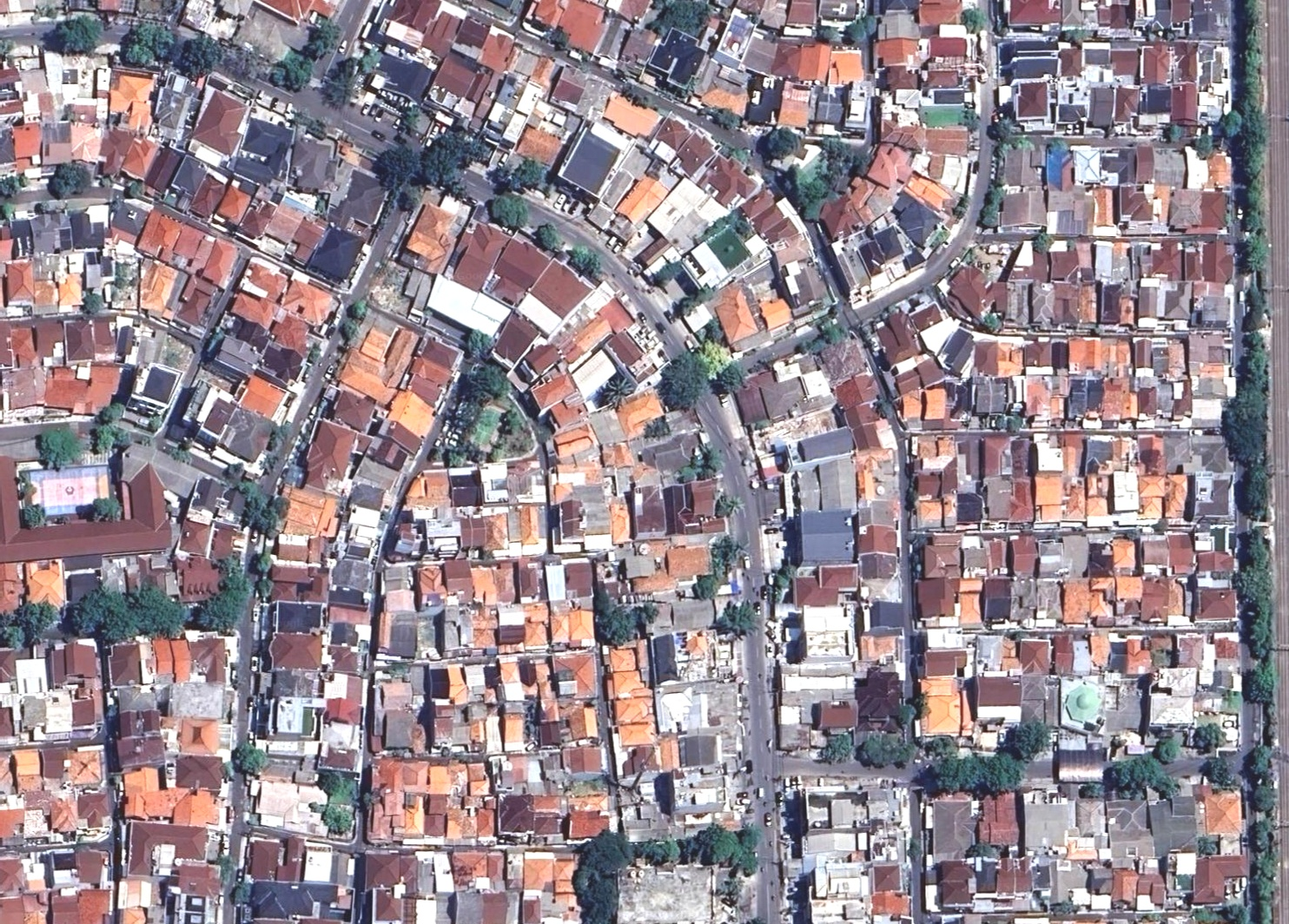building: (0, 456, 172, 564), (366, 756, 498, 848), (0, 742, 113, 848), (366, 756, 497, 845), (367, 757, 495, 842), (367, 757, 494, 842), (367, 757, 493, 842), (826, 209, 931, 305), (332, 309, 423, 410), (811, 160, 905, 251), (111, 429, 208, 517), (773, 657, 859, 752), (643, 173, 729, 259), (119, 766, 223, 830), (616, 859, 718, 924), (421, 273, 512, 343), (118, 322, 199, 400), (183, 86, 255, 173), (478, 62, 549, 150), (552, 124, 625, 204), (737, 180, 810, 258), (394, 333, 465, 413), (479, 232, 552, 309), (231, 1, 310, 72), (396, 198, 466, 278), (227, 114, 299, 191), (643, 109, 719, 181), (635, 413, 708, 486), (326, 166, 396, 242), (8, 205, 108, 258), (653, 764, 733, 829), (640, 24, 710, 98), (444, 216, 510, 294), (771, 37, 867, 90), (848, 424, 905, 512), (318, 671, 366, 774), (250, 777, 331, 838), (425, 48, 495, 118), (211, 403, 279, 475), (364, 46, 436, 114), (12, 741, 106, 793), (512, 97, 578, 169), (143, 69, 203, 147), (769, 245, 833, 318), (302, 220, 368, 290), (36, 50, 112, 110), (692, 148, 760, 215), (41, 360, 120, 417), (299, 418, 358, 494), (526, 257, 593, 323), (1185, 330, 1235, 418), (937, 259, 1003, 325), (409, 493, 470, 564), (248, 880, 351, 922), (127, 822, 208, 875), (706, 280, 763, 353), (563, 347, 628, 411), (334, 348, 403, 408), (480, 310, 543, 374), (127, 257, 188, 323), (648, 627, 717, 685), (275, 271, 340, 331), (170, 376, 230, 441), (44, 638, 103, 704), (1102, 795, 1155, 868), (160, 861, 221, 923), (124, 358, 183, 422), (553, 309, 615, 369), (599, 326, 659, 388), (1145, 793, 1203, 857), (810, 861, 869, 923), (881, 191, 943, 250), (285, 132, 340, 197), (930, 322, 989, 382), (612, 169, 670, 230), (842, 397, 897, 460), (104, 68, 156, 134), (551, 0, 612, 56), (830, 370, 885, 432), (362, 850, 433, 898), (812, 333, 871, 390), (675, 239, 732, 298), (342, 482, 386, 558), (598, 90, 661, 143), (1022, 789, 1074, 853), (797, 509, 855, 566), (382, 385, 442, 440), (610, 386, 669, 441), (870, 308, 924, 368), (710, 7, 760, 71), (170, 273, 221, 335), (930, 795, 977, 862), (799, 603, 853, 661), (791, 563, 860, 608), (282, 485, 339, 539), (159, 153, 211, 212), (544, 411, 600, 464), (180, 0, 256, 39), (901, 168, 959, 219), (499, 794, 563, 840), (1148, 668, 1196, 729), (928, 145, 982, 199), (253, 337, 308, 390), (855, 669, 902, 731), (814, 454, 861, 516), (574, 484, 616, 553), (560, 789, 613, 843), (236, 256, 292, 307), (133, 207, 184, 263), (236, 372, 291, 423), (1057, 675, 1108, 730), (138, 142, 186, 200), (1192, 854, 1245, 906), (1116, 183, 1169, 235), (101, 191, 152, 245), (496, 754, 563, 795), (41, 122, 101, 167), (417, 5, 466, 60), (587, 13, 634, 70), (191, 393, 237, 451), (999, 36, 1058, 81), (211, 331, 264, 381), (510, 336, 563, 386), (919, 675, 962, 736), (89, 123, 135, 180), (630, 232, 682, 282), (265, 308, 318, 357), (46, 847, 109, 888), (793, 425, 856, 466), (181, 472, 227, 528), (248, 836, 305, 881), (327, 386, 379, 435), (260, 196, 308, 249), (197, 236, 244, 290), (268, 560, 328, 602), (512, 291, 564, 339), (742, 74, 786, 130), (1061, 577, 1113, 624), (976, 792, 1019, 848), (758, 375, 808, 423), (551, 651, 598, 702), (513, 122, 564, 169), (1061, 373, 1107, 425), (999, 137, 1045, 189), (449, 848, 505, 890), (913, 307, 960, 357), (184, 171, 229, 223), (614, 23, 659, 75), (1101, 677, 1142, 734), (1132, 337, 1186, 380), (975, 675, 1021, 725), (544, 63, 590, 113), (502, 456, 547, 507), (211, 179, 255, 231), (117, 132, 161, 184), (168, 681, 228, 719), (697, 76, 751, 118), (1046, 188, 1093, 236), (570, 74, 615, 124), (234, 194, 278, 245), (527, 369, 578, 413), (284, 214, 327, 266), (505, 502, 547, 555), (176, 554, 221, 603), (449, 849, 504, 889), (996, 186, 1046, 230), (475, 26, 519, 76), (228, 287, 279, 330), (268, 632, 323, 671), (973, 337, 1024, 379), (173, 753, 225, 794), (774, 80, 815, 132), (629, 484, 667, 540), (351, 455, 400, 498), (50, 888, 110, 923), (135, 558, 186, 599), (936, 858, 976, 910), (650, 112, 697, 156), (806, 82, 849, 130), (352, 455, 400, 497), (164, 222, 206, 270), (1192, 282, 1234, 330), (1184, 241, 1232, 283), (1140, 578, 1184, 623), (1140, 237, 1185, 281), (740, 28, 780, 77), (730, 381, 769, 431), (0, 367, 44, 411), (541, 391, 587, 433), (1201, 790, 1243, 836), (1193, 472, 1233, 520), (914, 576, 957, 620), (94, 548, 136, 593), (115, 734, 166, 771), (364, 851, 415, 888), (586, 404, 627, 450), (841, 79, 874, 136), (152, 637, 192, 684), (1021, 673, 1057, 725), (254, 0, 335, 23), (389, 0, 442, 35), (327, 601, 370, 644), (550, 603, 593, 646), (858, 564, 902, 606), (968, 375, 1010, 419), (920, 533, 961, 578), (24, 560, 64, 606), (379, 416, 425, 456), (405, 469, 451, 509), (1048, 856, 1088, 902), (1011, 241, 1053, 284), (189, 637, 227, 683), (30, 317, 68, 363), (1054, 749, 1105, 783), (595, 295, 636, 337), (1097, 145, 1139, 186), (1109, 636, 1152, 676), (755, 291, 795, 333), (1100, 377, 1138, 421), (518, 601, 552, 650), (664, 544, 709, 581), (494, 654, 526, 706), (996, 279, 1031, 326), (74, 789, 113, 831), (1094, 241, 1133, 283), (329, 556, 373, 593), (1187, 436, 1232, 472), (107, 641, 142, 687), (1190, 0, 1231, 39), (1006, 0, 1061, 29), (446, 466, 483, 509), (1098, 283, 1135, 326), (498, 794, 534, 838), (411, 561, 446, 606), (564, 807, 610, 841), (646, 618, 685, 658), (177, 718, 219, 755), (913, 436, 955, 473), (1197, 188, 1230, 235), (1010, 51, 1060, 82), (381, 708, 416, 752), (1167, 188, 1202, 232), (274, 601, 322, 633), (648, 633, 678, 684), (148, 636, 179, 685), (441, 557, 474, 603), (617, 742, 658, 779), (657, 690, 693, 732), (858, 630, 900, 666), (0, 806, 43, 841), (381, 19, 426, 52), (1034, 470, 1062, 523), (68, 209, 105, 249), (577, 280, 617, 317), (869, 143, 906, 183), (63, 318, 95, 364), (1061, 578, 1093, 624), (248, 838, 283, 880), (856, 497, 898, 532), (66, 0, 136, 21), (0, 892, 47, 923), (629, 568, 676, 599), (792, 467, 823, 514), (64, 747, 102, 785), (453, 14, 491, 52), (177, 518, 213, 558), (1193, 587, 1235, 621), (1197, 43, 1228, 89), (561, 743, 604, 776), (271, 668, 318, 698), (520, 602, 550, 649), (63, 568, 103, 603), (12, 854, 47, 894), (63, 641, 97, 682), (678, 733, 719, 767), (1046, 241, 1080, 282), (119, 764, 161, 797), (1153, 146, 1185, 189), (995, 857, 1031, 895), (387, 611, 416, 658), (1015, 80, 1048, 121), (881, 122, 926, 152), (12, 122, 41, 168), (671, 599, 714, 630), (1139, 533, 1170, 576), (13, 657, 47, 696), (391, 520, 424, 560), (302, 842, 334, 883), (612, 694, 653, 726), (1107, 866, 1139, 907), (4, 260, 33, 305), (8, 324, 37, 369), (922, 649, 967, 678), (982, 578, 1011, 623), (1009, 577, 1038, 622), (924, 126, 969, 155), (1135, 277, 1164, 322), (805, 830, 855, 856), (555, 461, 603, 488), (378, 675, 413, 712), (75, 848, 109, 886), (44, 691, 72, 737), (1087, 84, 1115, 130), (916, 0, 962, 28), (817, 0, 863, 28), (69, 122, 101, 162), (523, 0, 567, 29), (479, 462, 509, 504), (1141, 42, 1171, 84), (566, 703, 599, 741), (521, 852, 554, 890), (621, 548, 659, 581), (907, 300, 945, 333), (117, 709, 160, 738), (187, 233, 216, 276), (811, 900, 865, 923), (563, 559, 594, 599), (876, 37, 917, 67), (1044, 140, 1069, 189), (470, 564, 499, 606), (90, 317, 117, 362), (984, 476, 1011, 521), (1170, 82, 1197, 127), (114, 684, 157, 712), (1009, 534, 1037, 577), (960, 534, 988, 577), (258, 739, 318, 759), (607, 497, 632, 545), (662, 484, 686, 534), (1029, 282, 1055, 328), (868, 860, 903, 894), (982, 436, 1011, 477), (0, 67, 22, 121), (552, 854, 574, 908), (1068, 337, 1101, 373), (607, 668, 645, 699), (1096, 0, 1134, 31), (481, 511, 509, 553), (497, 604, 525, 646), (1137, 434, 1165, 476), (957, 578, 982, 625), (870, 891, 909, 921), (1048, 241, 1078, 280), (1061, 534, 1088, 577), (1053, 282, 1080, 325), (1112, 85, 1139, 128), (689, 479, 718, 519), (857, 525, 897, 554), (1163, 281, 1192, 321), (16, 65, 49, 100), (1091, 185, 1115, 233), (1008, 477, 1033, 523), (1074, 799, 1105, 836), (819, 702, 856, 733), (512, 80, 543, 117), (273, 533, 311, 563), (1024, 375, 1051, 417), (877, 11, 919, 38), (369, 888, 401, 923), (470, 606, 496, 649), (617, 720, 655, 749), (536, 679, 561, 723), (1035, 578, 1061, 620), (1167, 533, 1193, 575), (1163, 433, 1191, 472), (117, 876, 151, 908), (830, 797, 865, 828), (600, 440, 635, 471), (0, 564, 22, 613), (0, 67, 22, 116), (1183, 146, 1208, 189), (1072, 147, 1101, 184), (526, 54, 555, 91), (19, 695, 47, 733), (971, 856, 999, 894), (1164, 473, 1187, 519), (1139, 475, 1163, 519), (799, 367, 831, 400), (891, 367, 925, 398), (1019, 639, 1049, 674), (784, 0, 819, 30), (1112, 472, 1138, 512), (1084, 541, 1112, 578), (493, 561, 517, 604), (516, 558, 540, 601), (583, 200, 615, 232), (1136, 873, 1165, 908), (654, 733, 680, 772), (1125, 636, 1151, 675), (1110, 536, 1136, 575), (559, 498, 582, 542), (431, 850, 454, 894), (920, 104, 964, 127), (543, 562, 567, 604), (0, 856, 25, 896), (1173, 42, 1198, 82), (275, 697, 302, 734), (1061, 432, 1083, 477), (869, 601, 903, 630), (39, 747, 67, 782), (895, 388, 923, 423), (49, 798, 76, 834), (459, 515, 486, 551), (1085, 436, 1112, 472), (0, 0, 36, 27), (975, 636, 1001, 673), (859, 553, 896, 579), (922, 383, 948, 420), (984, 279, 1010, 316), (1140, 84, 1171, 115), (604, 645, 638, 673), (1110, 48, 1138, 82), (440, 605, 460, 652), (209, 525, 235, 561), (502, 713, 526, 752), (804, 793, 830, 829), (381, 562, 412, 592), (453, 890, 481, 923), (1176, 633, 1203, 667), (1038, 540, 1062, 578), (884, 66, 919, 92), (1052, 632, 1073, 675), (1064, 481, 1086, 522), (400, 759, 428, 791), (1191, 399, 1223, 427), (1196, 551, 1233, 575), (347, 504, 381, 530), (481, 713, 502, 755), (325, 698, 360, 723), (57, 273, 82, 308), (1206, 153, 1231, 188), (519, 893, 548, 923), (1198, 92, 1227, 122), (757, 0, 786, 30), (771, 355, 802, 383), (480, 891, 507, 923), (955, 492, 982, 524), (446, 663, 467, 704), (1170, 380, 1192, 419), (531, 658, 554, 695), (63, 99, 97, 124), (929, 36, 967, 58), (865, 790, 891, 822), (382, 588, 415, 613), (466, 702, 486, 743), (985, 538, 1007, 575), (915, 498, 942, 528), (1035, 442, 1062, 472), (404, 795, 423, 837), (71, 697, 96, 728), (463, 663, 486, 696), (1195, 691, 1228, 714), (329, 647, 357, 674), (1085, 497, 1110, 527), (1071, 639, 1092, 674), (925, 68, 960, 89), (1023, 340, 1051, 366), (1010, 439, 1029, 477), (1147, 0, 1171, 30), (217, 0, 253, 20), (452, 710, 470, 749), (1211, 668, 1240, 692), (1113, 437, 1135, 468), (1213, 633, 1239, 659), (914, 472, 940, 498), (1086, 868, 1111, 895), (1114, 576, 1141, 601), (329, 622, 358, 645), (427, 765, 450, 794), (91, 65, 111, 98), (1059, 46, 1081, 76), (33, 279, 57, 306), (84, 254, 102, 290), (427, 668, 448, 698), (873, 835, 897, 861), (1082, 43, 1109, 66), (0, 128, 14, 172), (1061, 0, 1083, 28), (517, 658, 538, 687), (539, 721, 562, 747), (691, 693, 708, 728), (1152, 185, 1168, 222), (1057, 103, 1085, 124), (941, 459, 956, 498), (1136, 387, 1156, 416), (0, 751, 13, 795), (0, 649, 16, 683), (497, 624, 524, 644), (149, 396, 172, 419), (893, 89, 920, 108), (23, 92, 40, 122), (415, 899, 436, 923), (409, 663, 424, 696), (37, 90, 54, 119), (482, 661, 499, 689), (0, 707, 14, 738), (119, 907, 145, 923), (1048, 395, 1064, 420), (935, 436, 955, 455), (340, 855, 356, 878), (872, 517, 896, 526), (130, 386, 142, 398), (1148, 147, 1152, 182), (633, 806, 641, 820), (885, 556, 896, 564), (917, 491, 929, 498), (947, 488, 954, 496), (918, 518, 925, 525)
tree: (404, 115, 490, 206), (57, 581, 145, 650), (646, 345, 720, 418), (773, 153, 843, 225), (119, 580, 193, 645), (165, 24, 228, 87), (571, 823, 639, 881), (366, 137, 428, 197), (566, 861, 623, 924), (811, 132, 873, 189), (918, 749, 988, 798), (993, 714, 1056, 768), (116, 18, 179, 72), (1221, 399, 1270, 468), (1099, 748, 1164, 799), (6, 588, 63, 645), (208, 553, 257, 613), (589, 599, 644, 651), (1231, 340, 1283, 392), (216, 37, 269, 87), (32, 423, 87, 471), (268, 46, 318, 97), (191, 591, 243, 639), (1239, 602, 1282, 660), (557, 238, 611, 284), (318, 53, 361, 110), (646, 0, 712, 37), (792, 316, 851, 357), (41, 158, 94, 203), (238, 489, 286, 538), (82, 414, 132, 461), (490, 408, 535, 460), (701, 529, 748, 577), (444, 390, 491, 438), (854, 733, 916, 769), (45, 15, 102, 54), (972, 752, 1023, 795), (308, 758, 354, 804), (1228, 375, 1275, 420), (1234, 462, 1270, 520), (704, 358, 751, 402), (301, 14, 342, 64), (691, 824, 739, 866), (691, 332, 735, 377), (1232, 564, 1275, 610), (662, 281, 710, 322), (526, 217, 570, 261), (227, 738, 272, 780), (1242, 657, 1277, 709), (839, 8, 882, 50), (975, 181, 1009, 234), (459, 363, 508, 399), (712, 133, 758, 171), (593, 369, 635, 410), (696, 100, 745, 135), (674, 448, 721, 484), (499, 158, 546, 193), (486, 192, 528, 231), (1147, 729, 1187, 769), (716, 600, 757, 637), (757, 127, 800, 162), (637, 838, 692, 865), (1232, 177, 1269, 217), (816, 730, 857, 766), (1237, 528, 1270, 571), (945, 100, 984, 135), (1232, 141, 1266, 181), (643, 260, 688, 290), (1211, 107, 1247, 143), (982, 112, 1018, 148), (1248, 844, 1281, 883), (1236, 233, 1267, 274), (731, 820, 766, 856), (1146, 768, 1181, 803), (710, 871, 744, 907), (1192, 718, 1226, 753), (584, 585, 618, 619), (94, 398, 129, 430), (1235, 50, 1261, 93), (1187, 128, 1220, 161), (723, 207, 756, 240), (867, 392, 900, 425), (321, 802, 353, 836), (245, 546, 277, 580), (1247, 781, 1278, 816), (766, 559, 797, 594), (1235, 112, 1265, 148), (628, 598, 662, 629), (86, 494, 121, 523), (1247, 814, 1273, 853), (691, 572, 727, 600), (1024, 225, 1056, 256), (1245, 744, 1272, 780), (698, 213, 734, 240), (438, 444, 475, 470), (396, 101, 423, 136), (460, 329, 491, 359), (638, 414, 671, 442), (0, 613, 25, 649), (710, 493, 741, 522), (956, 6, 988, 34), (810, 22, 848, 45), (1249, 873, 1274, 907), (232, 474, 261, 503), (991, 134, 1031, 155), (394, 183, 422, 213), (1045, 898, 1079, 922), (892, 700, 919, 730), (226, 877, 253, 907), (922, 736, 958, 758), (729, 848, 757, 876), (1214, 900, 1248, 923), (1055, 26, 1088, 49), (17, 502, 47, 527), (964, 840, 1001, 860), (1245, 897, 1273, 923), (159, 441, 191, 463), (1235, 92, 1262, 118), (1240, 328, 1267, 354), (344, 295, 370, 322), (248, 573, 274, 600), (336, 318, 358, 348), (1239, 208, 1264, 234), (979, 309, 1004, 335), (24, 197, 50, 222), (0, 173, 23, 201), (253, 449, 278, 474), (379, 658, 407, 680), (268, 422, 290, 450), (1187, 905, 1221, 923), (215, 854, 234, 886), (1244, 284, 1266, 311), (949, 193, 971, 220), (357, 49, 379, 76), (300, 117, 327, 139), (1241, 25, 1260, 56), (13, 470, 34, 497), (152, 0, 182, 18), (1195, 834, 1220, 855), (700, 317, 721, 342), (1075, 781, 1104, 799), (1239, 0, 1261, 23), (80, 292, 103, 314), (997, 413, 1022, 433), (1161, 123, 1181, 145), (304, 341, 322, 364), (122, 179, 142, 198), (224, 462, 244, 479), (218, 760, 232, 782), (132, 432, 154, 446), (142, 416, 160, 433), (0, 37, 12, 61), (0, 203, 13, 221)
